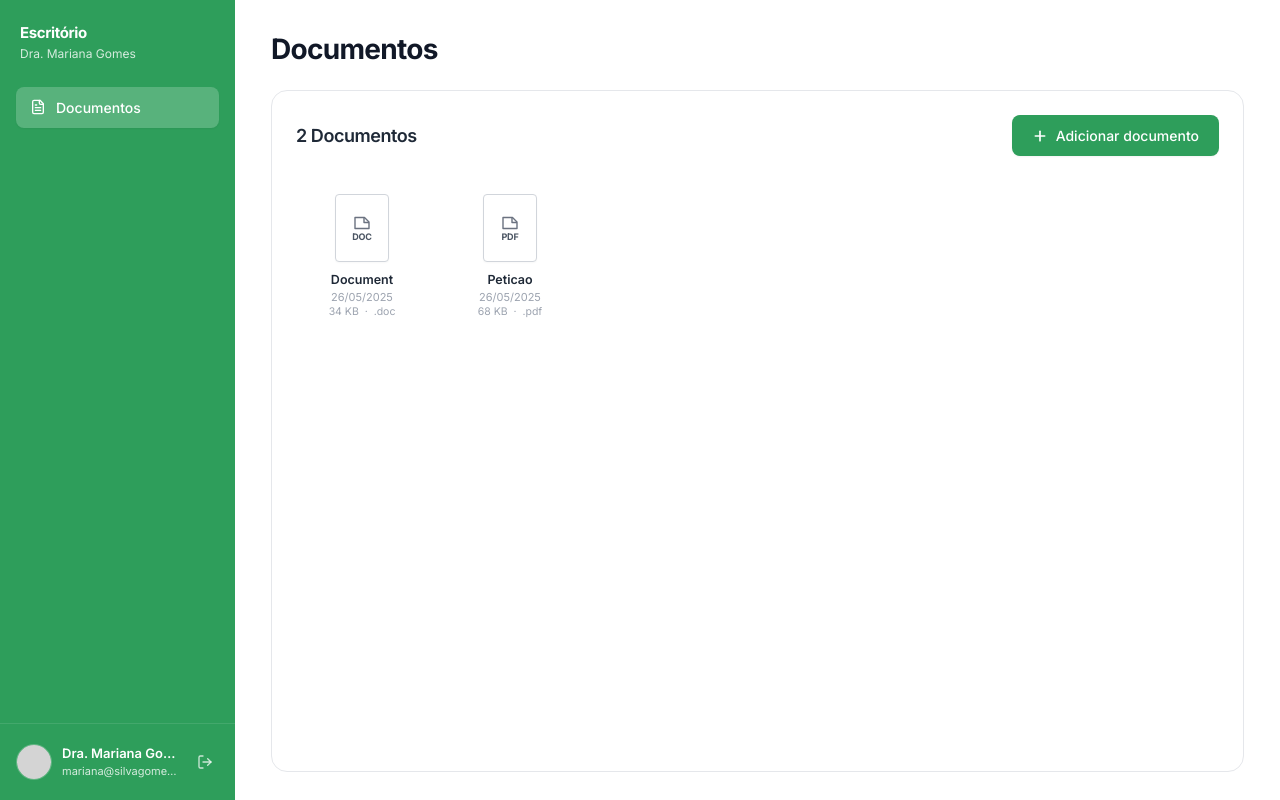
Test case: DocumentsPage — Fluxos do Protótipo (.insp) › deve listar documentos e exibir "Excluir documentos" e "Visualizar analise" ao selecionar 1 documento
Expected: the heading with test id "documents-total-counter" reads "2 Documentos", [296,125,417,146]
Seleciona o primeiro documento
Click the button with test id "document-card-doc-1" at coordinates (362, 256), box [329,194,395,318]
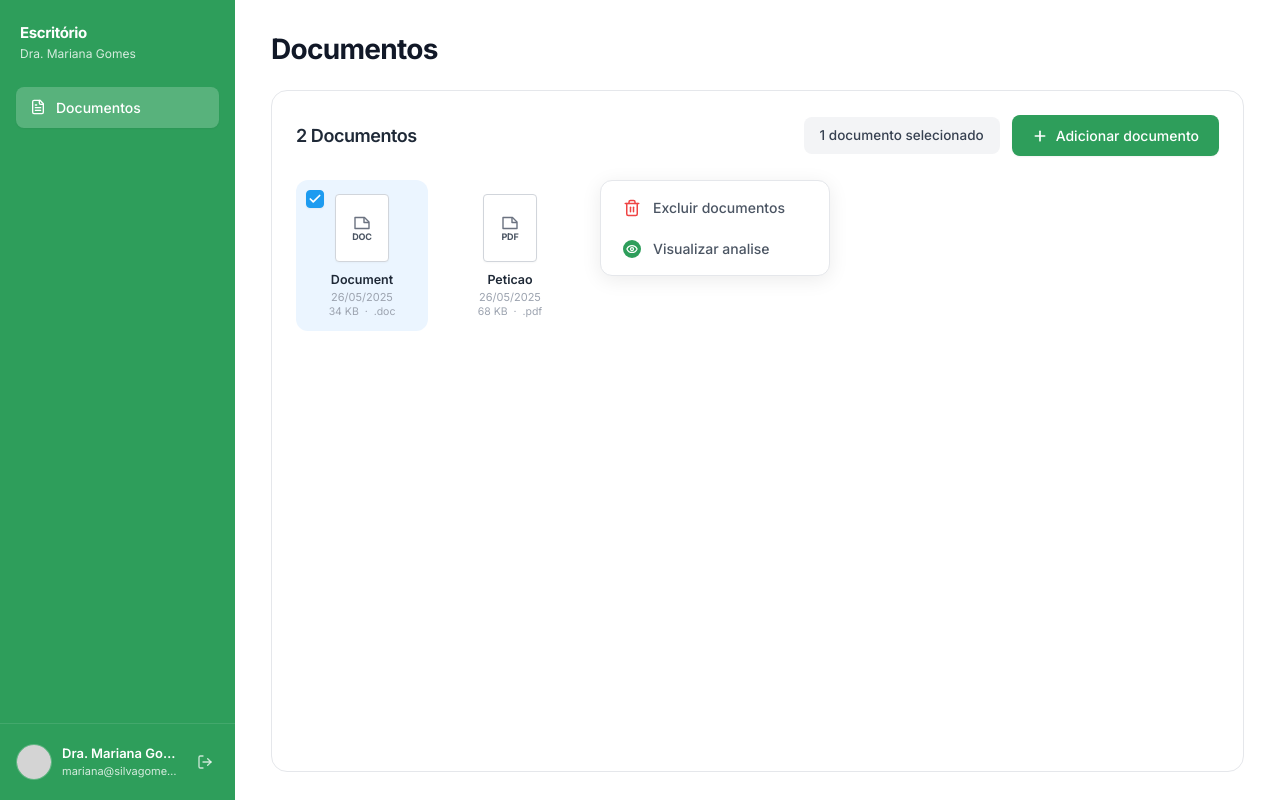
Expected: the text with test id "selected-counter-badge" reads "1 documento selecionado", [820,127,984,143]
Expected: the button with test id "btn-delete-selected" is shown, [611,189,819,226]
Expected: the button with test id "btn-view-analysis" is shown, [611,230,819,267]
